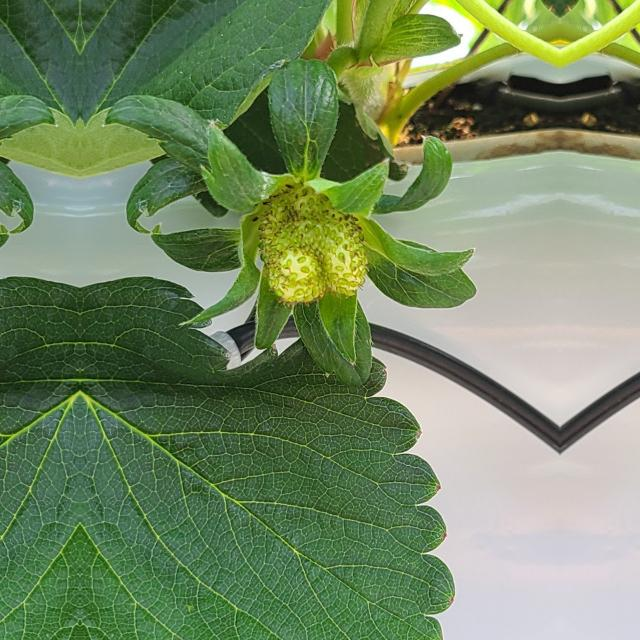Health_25: (260, 188, 366, 304)
